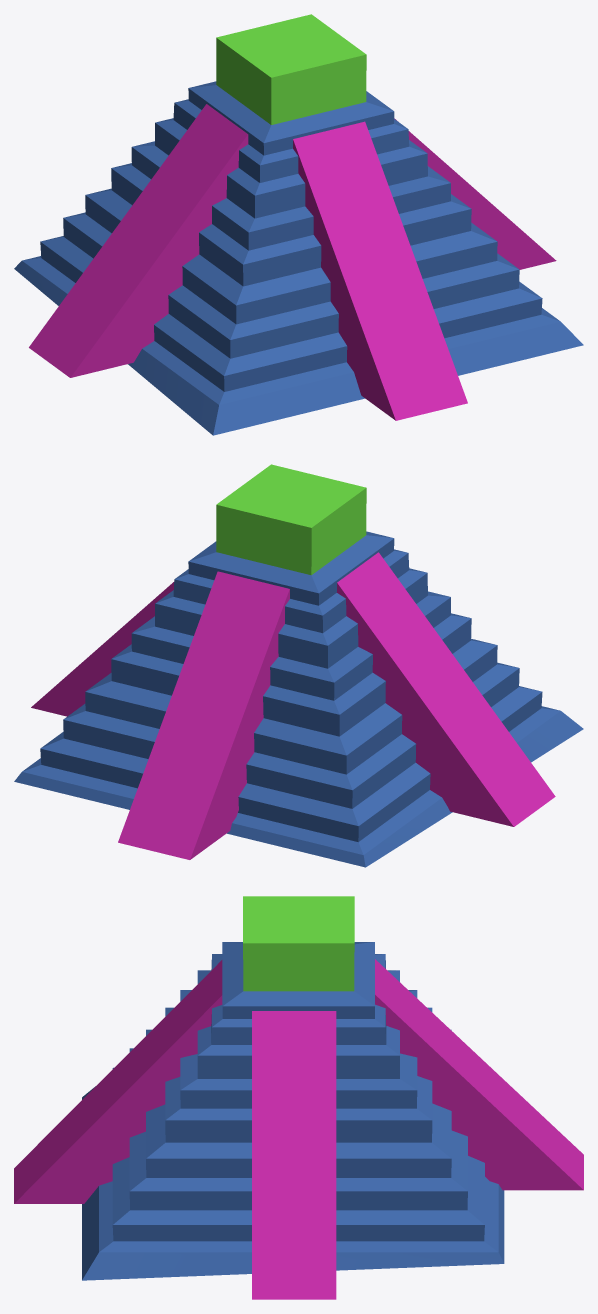
File: Chiichen Itza.fbx
The picture shows the model from 3 angles, top to bottom: view 1: azimuth 30°, elevation 25°; view 2: azimuth 150°, elevation 25°; view 3: azimuth 270°, elevation 25°; orthographic projection.
Parts seen in each view (by area): view 1: pasted__pasted__pCube7; view 2: pasted__pasted__pCube7; view 3: pasted__pasted__pCube7.
Boxes of the visible parts, x1,y1,x2,y2 form: pasted__pasted__pCube7: (14, 14, 583, 435); pasted__pasted__pCube7: (14, 464, 583, 867); pasted__pasted__pCube7: (14, 896, 583, 1299).
Bounding box in the file's own units: 67.23 × 35.24 × 67.59.
